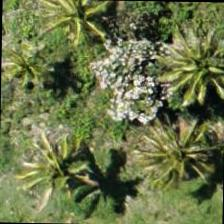Kelapa_Sawit: (2, 123, 94, 215), (143, 101, 223, 193), (155, 23, 223, 115), (44, 0, 136, 50)
